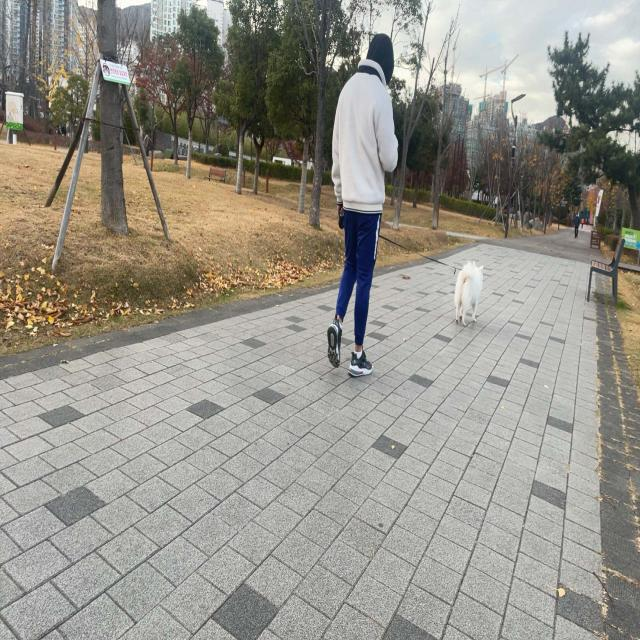Leashed_Dog: (346, 203, 484, 328)
